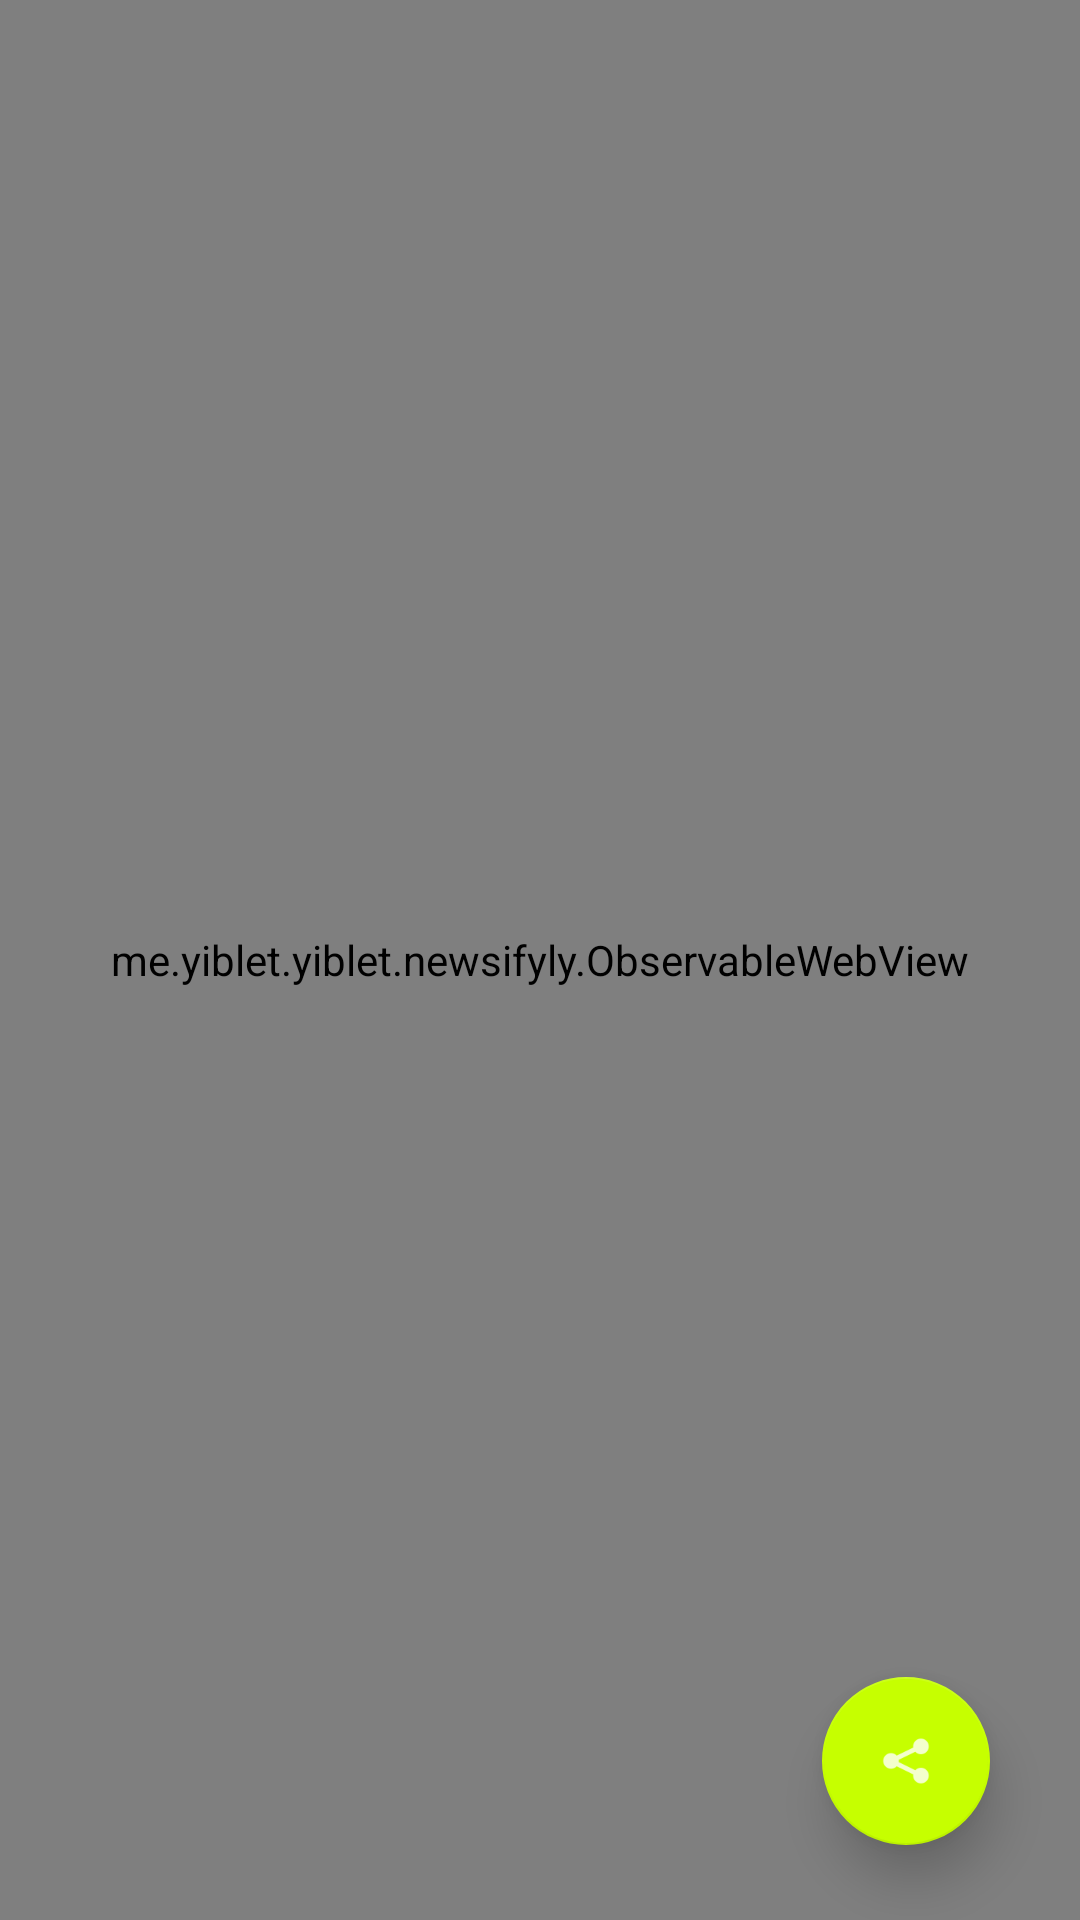

Locate icon controls on the screen. Image size 1080px×1920px, boxes as [x1, y1, x2, y2].
share: [822, 1677, 990, 1845]
